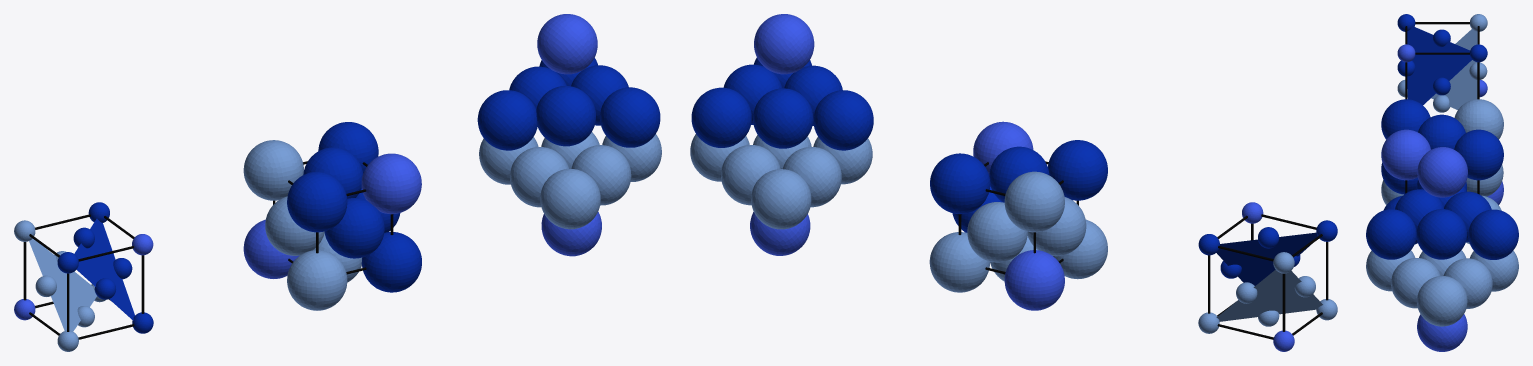
The model's file is CCCaMetal.gltf.
The picture shows the model from 3 angles, left to right: view 1: azimuth 30°, elevation 25°; view 2: azimuth 150°, elevation 25°; view 3: azimuth 270°, elevation 25°; orthographic projection. The views are drawn at different scales.
Parts seen in each view (by area): view 1: Sphere.021_Sphere.022, Sphere.003, Sphere.025_Sphere.026, Sphere.020_Sphere.021, Sphere.007, Sphere.024_Sphere.025, Sphere.019_Sphere.020, Sphere.002, Sphere, Sphere.006, Sphere.009, Sphere.017_Sphere.018 (+15 smaller); view 2: Sphere, Sphere.001, Sphere.004, Sphere.008, Sphere.026_Sphere.027, Sphere.027_Sphere.028, Sphere.025_Sphere.026, Sphere.024_Sphere.025, Sphere.003, Sphere.010, Sphere.005, Plane.003 (+14 smaller); view 3: Plane.002, Sphere.022_Sphere.023, Sphere.021_Sphere.022, Sphere.015_Sphere.013, Sphere.026_Sphere.027, Sphere.025_Sphere.026, Sphere.002, Sphere.001, Sphere.017_Sphere.018, Sphere.018_Sphere.019, Sphere, Sphere.003 (+24 smaller).
Boxes of the visible parts, x1=… form: Sphere.021_Sphere.022: x1=600, y1=87, x2=660, y2=147; Sphere.003: x1=287, y1=171, x2=347, y2=232; Sphere.025_Sphere.026: x1=537, y1=14, x2=597, y2=74; Sphere.020_Sphere.021: x1=540, y1=169, x2=600, y2=229; Sphere.007: x1=287, y1=250, x2=347, y2=310; Sphere.024_Sphere.025: x1=477, y1=90, x2=537, y2=150; Sphere.019_Sphere.020: x1=536, y1=86, x2=595, y2=146; Sphere.002: x1=361, y1=153, x2=421, y2=214; Sphere: x1=243, y1=140, x2=303, y2=200; Sphere.006: x1=361, y1=232, x2=421, y2=292; Sphere.009: x1=324, y1=198, x2=384, y2=258; Sphere.017_Sphere.018: x1=571, y1=145, x2=631, y2=205; Sphere: x1=1004, y1=171, x2=1064, y2=232; Sphere.001: x1=930, y1=153, x2=990, y2=214; Sphere.004: x1=1004, y1=250, x2=1064, y2=310; Sphere.008: x1=753, y1=88, x2=813, y2=148; Sphere.026_Sphere.027: x1=691, y1=87, x2=751, y2=147; Sphere.027_Sphere.028: x1=751, y1=169, x2=811, y2=229; Sphere.025_Sphere.026: x1=754, y1=14, x2=814, y2=74; Sphere.024_Sphere.025: x1=813, y1=90, x2=873, y2=150; Sphere.003: x1=1048, y1=140, x2=1107, y2=200; Sphere.010: x1=967, y1=202, x2=1027, y2=262; Sphere.005: x1=929, y1=232, x2=989, y2=292; Plane.003: x1=1216, y1=269, x2=1322, y2=321; Plane.002: x1=1407, y1=26, x2=1472, y2=104; Sphere.022_Sphere.023: x1=1417, y1=276, x2=1467, y2=326; Sphere.021_Sphere.022: x1=1366, y1=209, x2=1416, y2=259; Sphere.015_Sphere.013: x1=1416, y1=209, x2=1466, y2=259; Sphere.026_Sphere.027: x1=1468, y1=209, x2=1518, y2=259; Sphere.025_Sphere.026: x1=1417, y1=147, x2=1467, y2=197; Sphere.002: x1=1381, y1=129, x2=1430, y2=180; Sphere.001: x1=1454, y1=129, x2=1503, y2=180; Sphere.017_Sphere.018: x1=1391, y1=258, x2=1440, y2=308; Sphere.018_Sphere.019: x1=1443, y1=258, x2=1492, y2=308; Sphere: x1=1454, y1=99, x2=1503, y2=139; Sphere.003: x1=1381, y1=99, x2=1430, y2=139.
Bounding box in the file's own units: 33.19 × 12.13 × 8.47.
